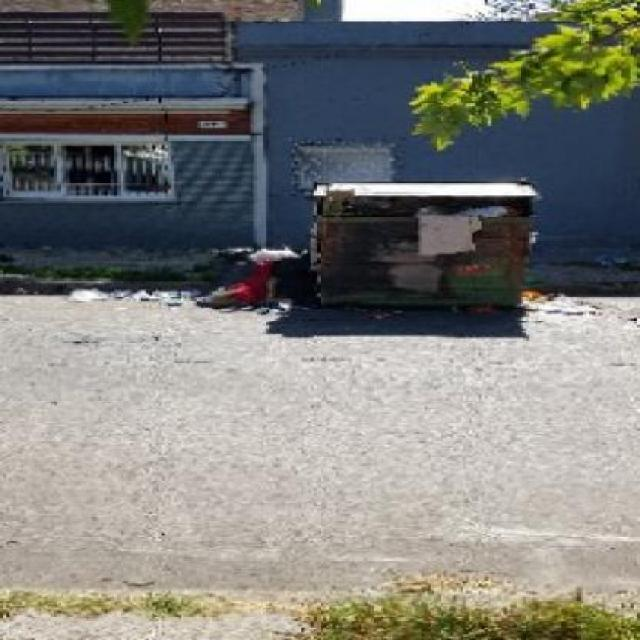garbage: (311, 191, 530, 262), (174, 241, 313, 304), (71, 279, 178, 309), (526, 286, 614, 318)
